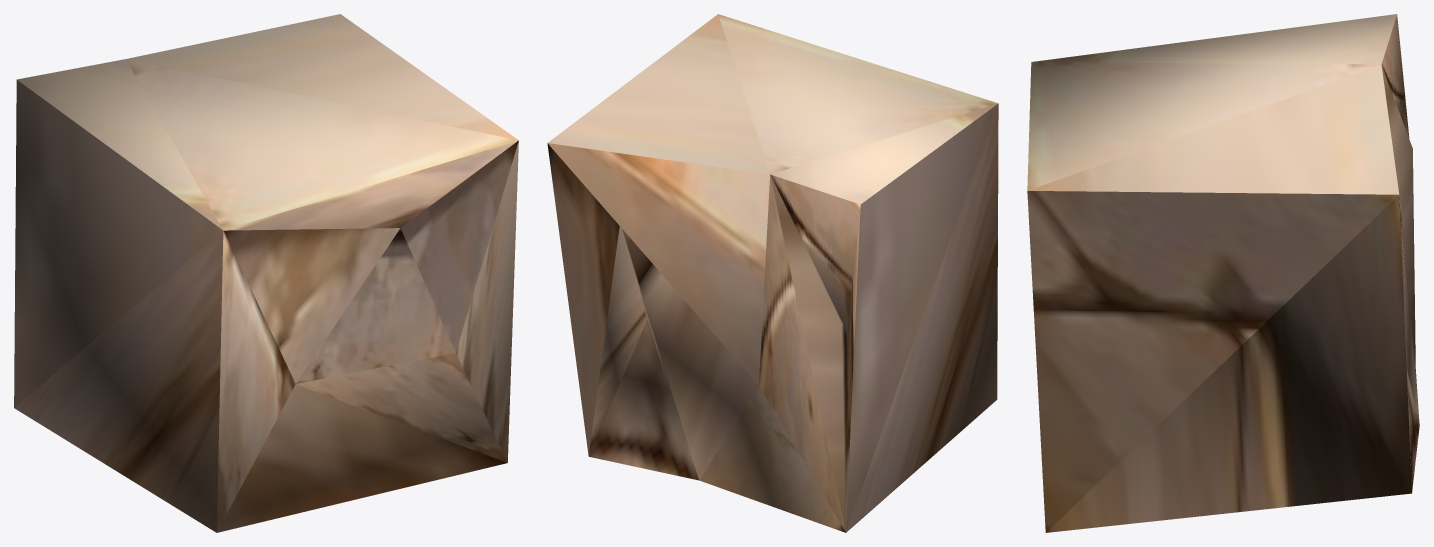
File: foundation.glb
3 renders of one model, left to right at view 1: azimuth 30°, elevation 25°; view 2: azimuth 150°, elevation 25°; view 3: azimuth 270°, elevation 25°, orthographic. The views are drawn at different scales.
Visible parts, largest first — view 1: VillageStoneFoundationMesh; view 2: VillageStoneFoundationMesh; view 3: VillageStoneFoundationMesh.
Part boxes in pixels (left/top/right/bottom): VillageStoneFoundationMesh: left=14, top=14, right=518, bottom=532; VillageStoneFoundationMesh: left=547, top=14, right=998, bottom=532; VillageStoneFoundationMesh: left=1027, top=14, right=1419, bottom=532.
Bounding box in the file's own units: 1 × 1 × 1.
1 material, 1 textured.
